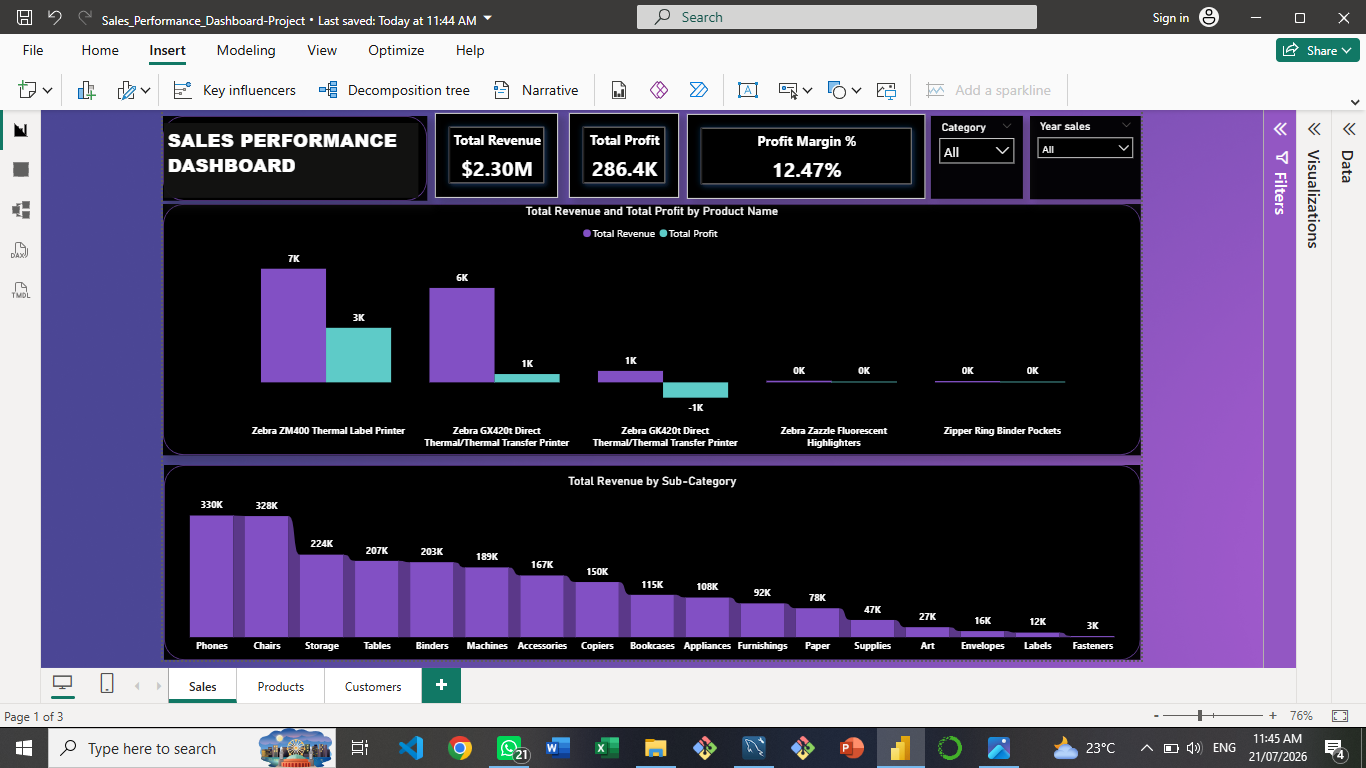

This screenshot's page, from the dashboard's own definition file:
{"tool":"powerbi","page":{"name":"Sales","canvas":[1280,720],"ordinal":0},"visuals":[{"type":"shape","box":[0,123.1,1280.3,328.6],"z":0},{"type":"shape","box":[1.4,464.9,1278.4,255.4],"z":1000},{"type":"cardVisual","fields":{"Data":["Order.Total Revenue"]},"box":[355.7,4.3,161.3,110.9],"z":2000},{"type":"cardVisual","fields":{"Data":["Order.Total Profit"]},"box":[531.4,4.3,144,110.9],"z":3000},{"type":"columnChart","fields":{"Y":["Order.Total Revenue"],"Category":["Order.Sub-Category"]},"box":[1.4,476.2,1278.6,243.6],"z":4000},{"type":"slicer","fields":{"Values":["Order.Year sales"]},"box":[1134.7,7.2,145.4,109.4],"z":5000},{"type":"shape","box":[0,7.2,345.6,110.9],"z":6000},{"type":"textbox","box":[1.4,17.3,332.6,97.9],"z":7000},{"type":"clusteredColumnChart","fields":{"Category":["Order.Product Name"],"Y":["Order.Total Revenue","Order.Total Profit"]},"box":[0,123.1,1280.3,328.6],"z":8000},{"type":"cardVisual","fields":{"Data":["Order.Profit Margin %"]},"box":[685.4,5.8,312.5,110.9],"z":9000},{"type":"slicer","fields":{"Values":["Order.Category"]},"box":[1005.1,7.2,119.5,108],"z":10000}]}

Visuals, with their boxes on the page's 1280x720 design canvas (x1, y1, x2, y2). These are canvas units, not pixel positions in the 1366x768 screenshot, which may show the page scaled, cropped or inside an application window:
shape: Rect(0, 123, 1280, 452)
shape: Rect(1, 465, 1280, 720)
cardVisual - Order.Total Revenue: Rect(356, 4, 517, 115)
cardVisual - Order.Total Profit: Rect(531, 4, 675, 115)
columnChart - Order.Total Revenue x Order.Sub-Category: Rect(1, 476, 1280, 720)
slicer - Order.Year sales: Rect(1135, 7, 1280, 117)
shape: Rect(0, 7, 346, 118)
textbox: Rect(1, 17, 334, 115)
clusteredColumnChart - Order.Product Name x Order.Total Revenue: Rect(0, 123, 1280, 452)
cardVisual - Order.Profit Margin %: Rect(685, 6, 998, 117)
slicer - Order.Category: Rect(1005, 7, 1125, 115)
